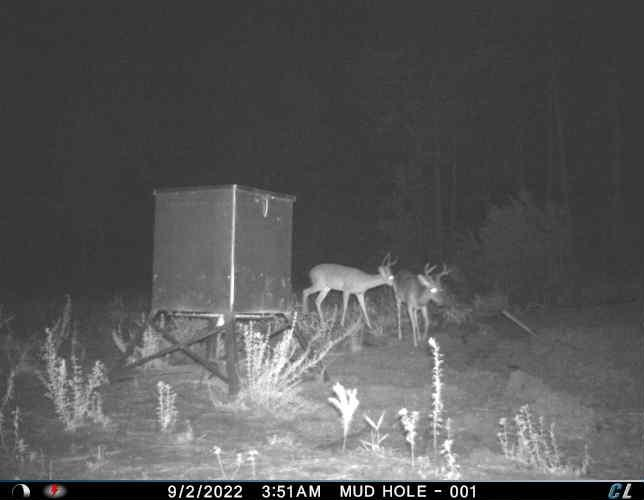Deer: (305, 255, 401, 332), (393, 253, 443, 336)
